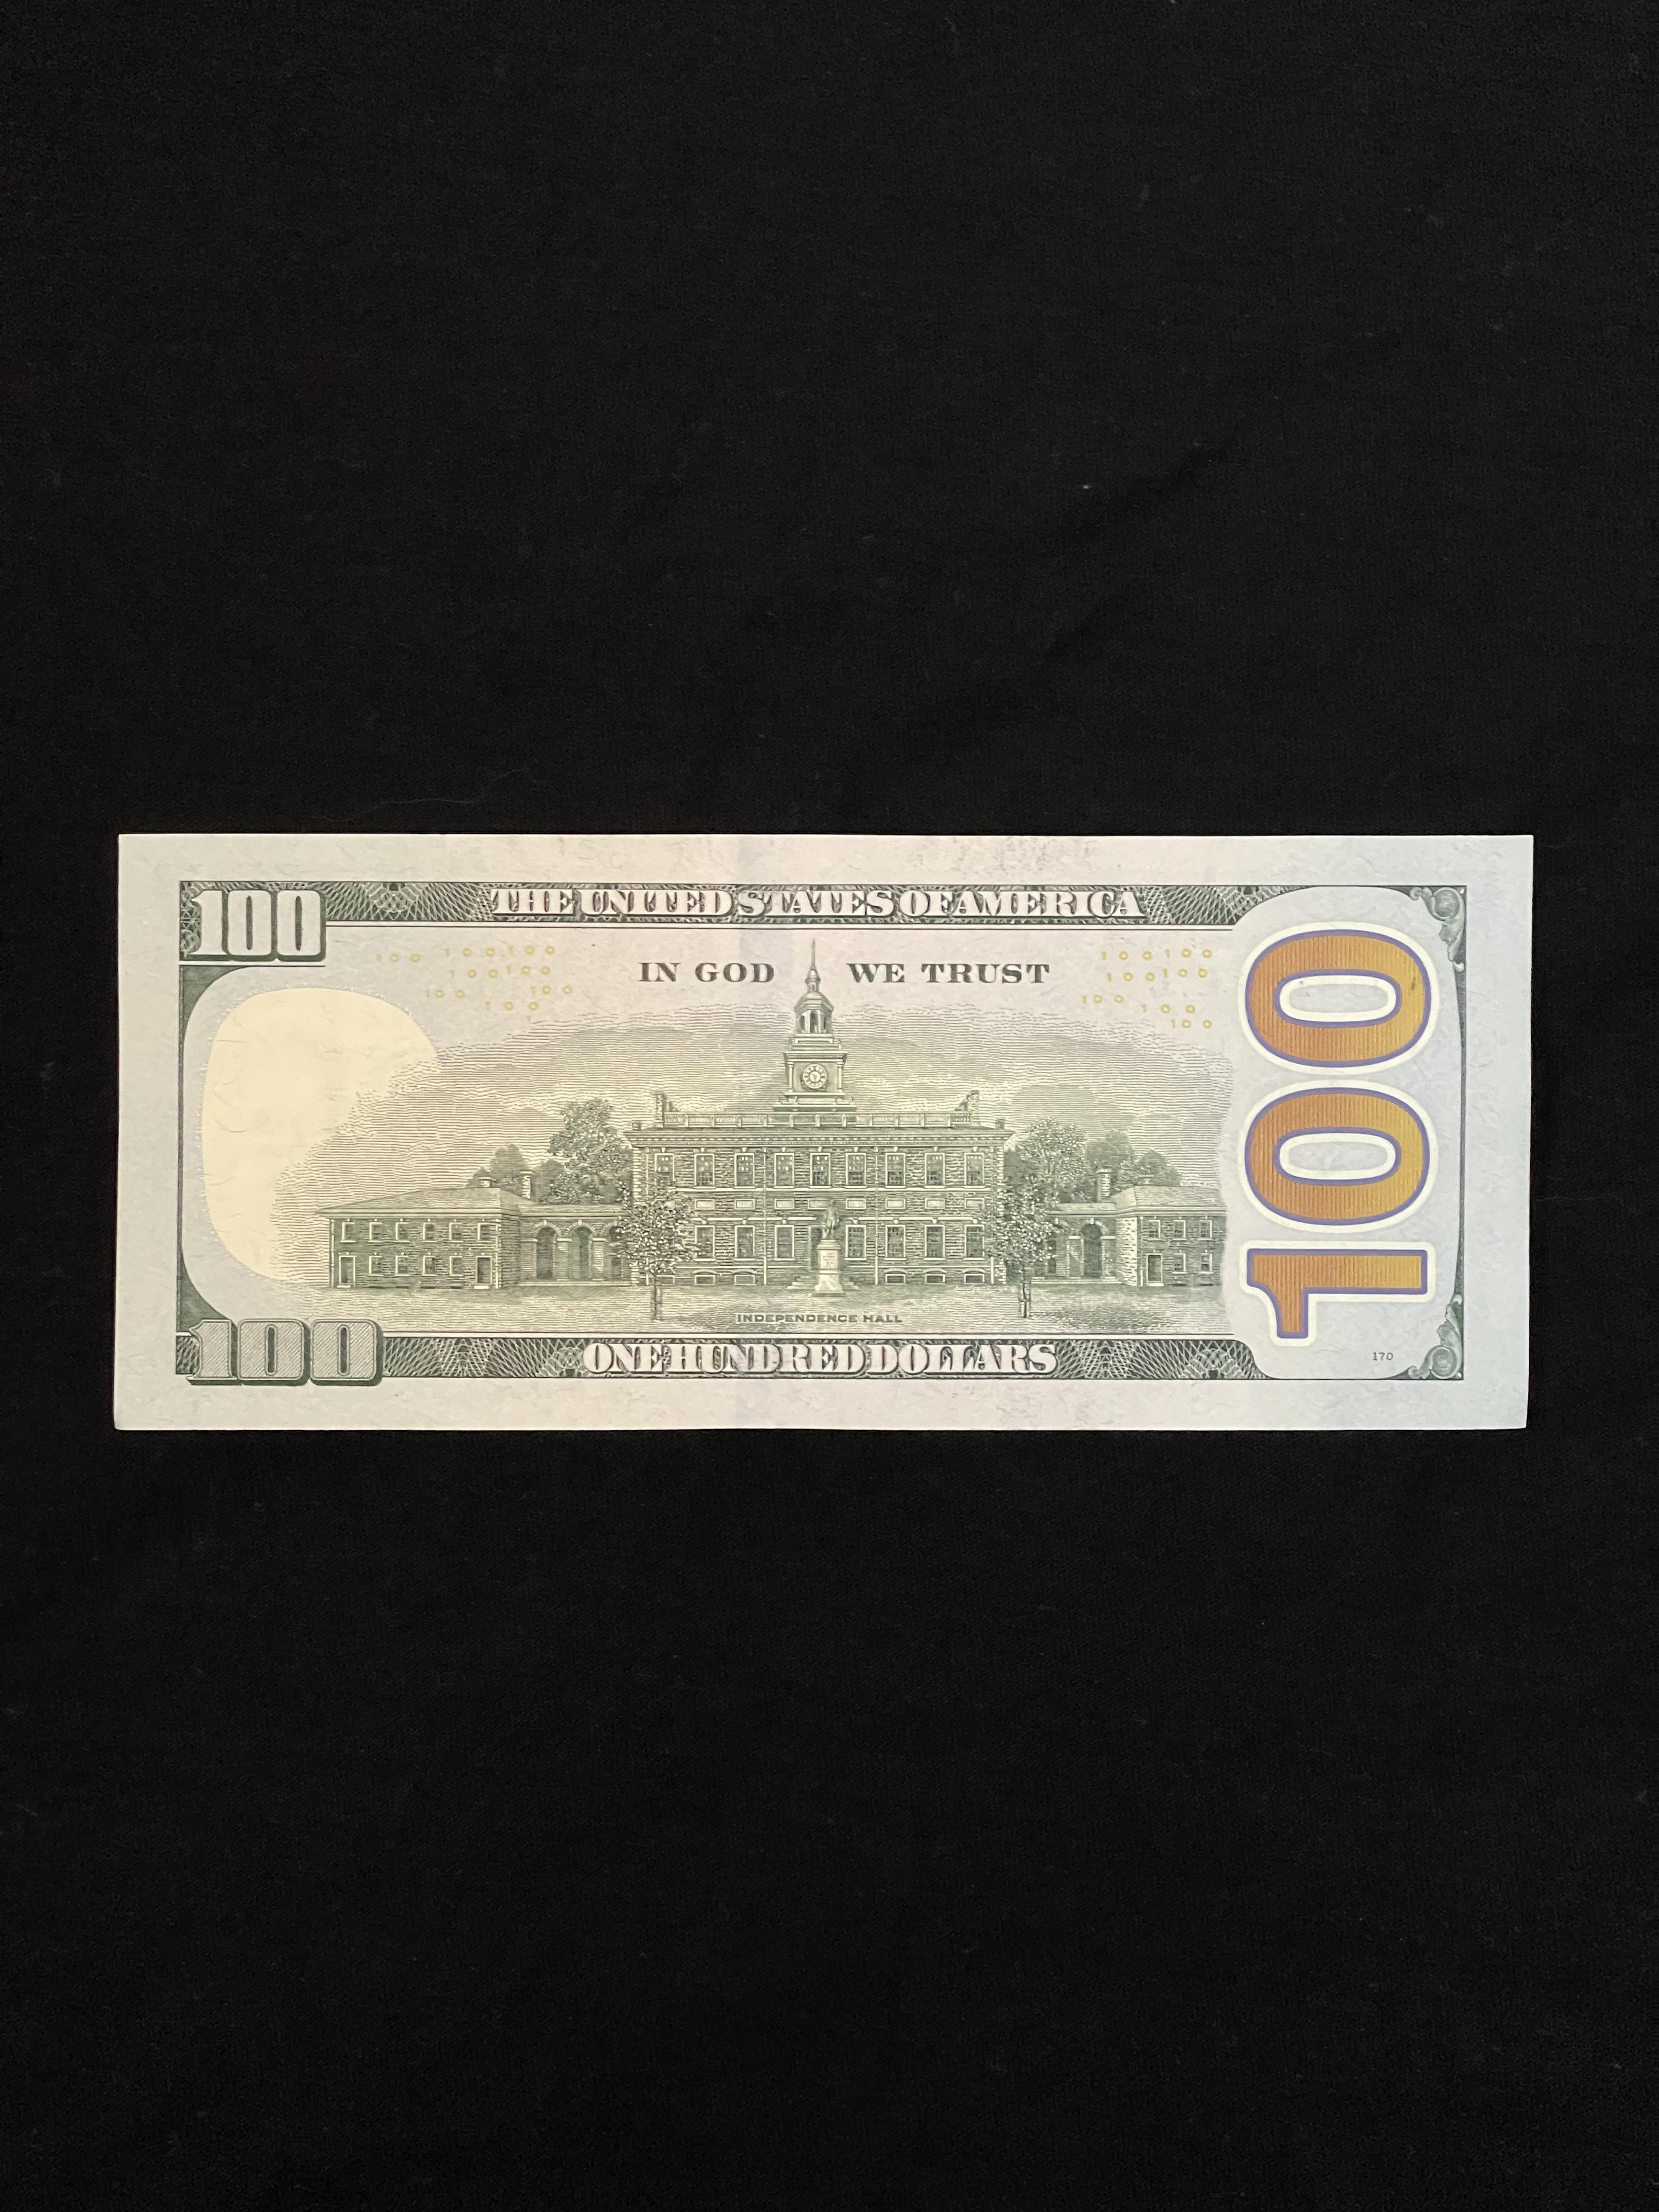HundredBill: (108, 826, 1541, 1435)
